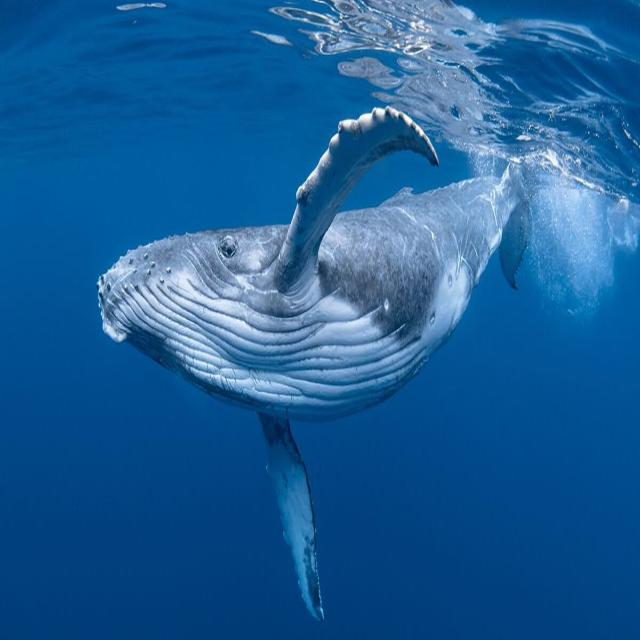whale: (98, 107, 536, 619)
